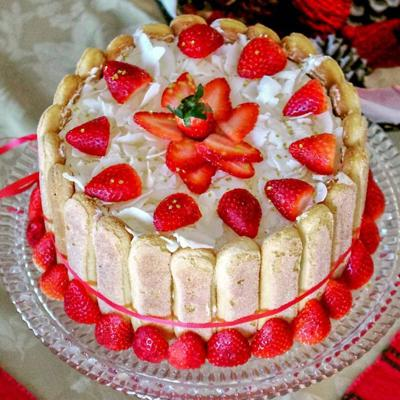cake: (23, 13, 377, 377)
